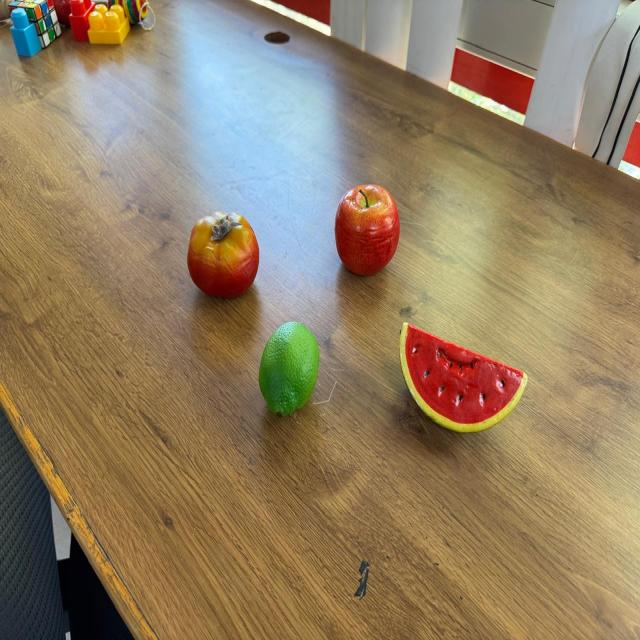apple: (333, 184, 399, 276)
lemon: (258, 323, 320, 416)
tomato: (187, 210, 260, 300)
watermelon: (399, 322, 528, 432)
